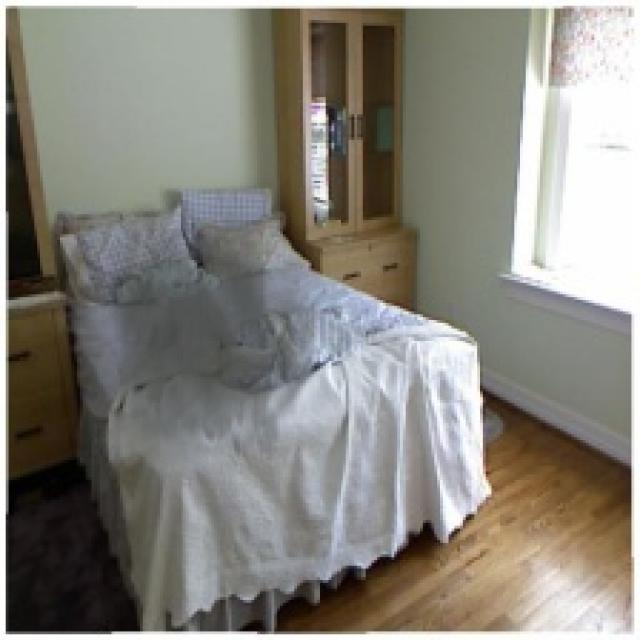Smoke: (100, 228, 314, 488)
